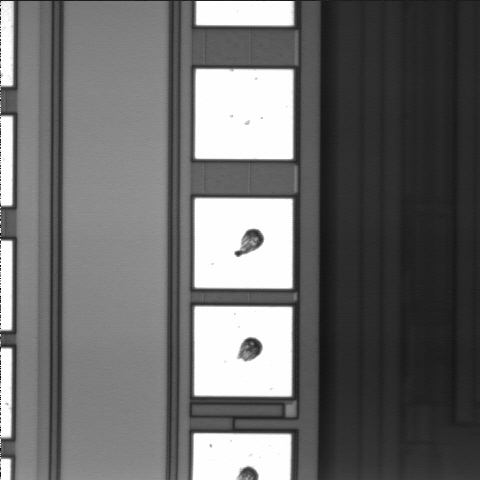pad: (195, 69, 293, 159), (195, 198, 293, 288), (194, 307, 292, 396)
